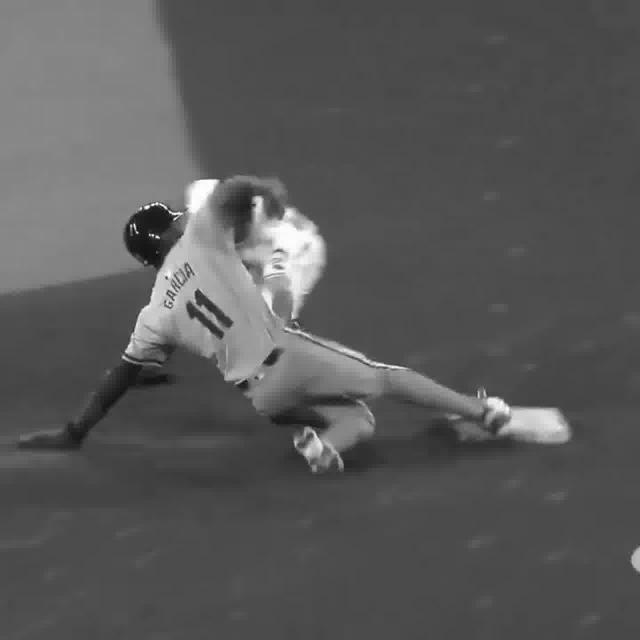base: (443, 407, 576, 443)
shoe: (292, 430, 347, 470), (477, 394, 517, 430)
